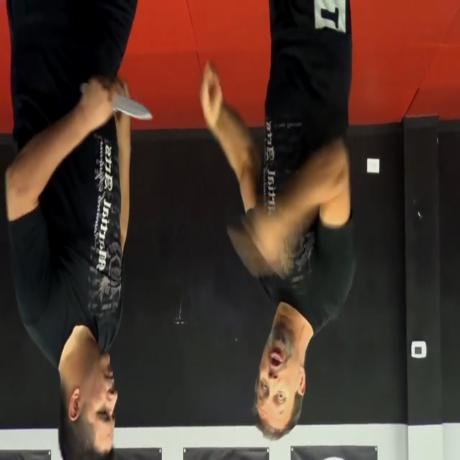1: (200, 0, 360, 446), (0, 0, 140, 460)
weapon: (80, 80, 153, 122)
